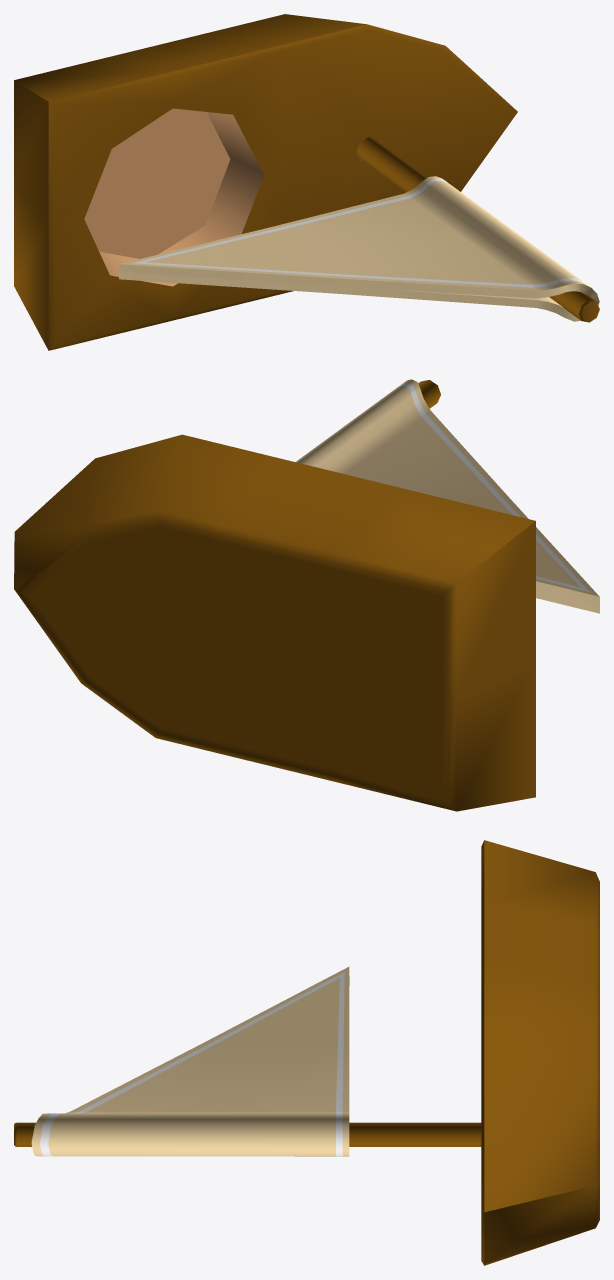
The model's file is boat.fbx.
The picture shows the model from 3 angles, top to bottom: view 1: azimuth 30°, elevation 25°; view 2: azimuth 150°, elevation 25°; view 3: azimuth 270°, elevation 25°; orthographic projection. The views are drawn at different scales.
Parts seen in each view (by area): view 1: body, sail, mast; view 2: body, sail; view 3: body, sail, mast.
Boxes of the visible parts, x1=… form: body: x1=14, y1=14, x2=517, y2=350; sail: x1=119, y1=176, x2=599, y2=321; mast: x1=356, y1=137, x2=599, y2=322; body: x1=14, y1=434, x2=535, y2=811; sail: x1=295, y1=379, x2=599, y2=613; body: x1=481, y1=840, x2=599, y2=1265; sail: x1=31, y1=967, x2=349, y2=1156; mast: x1=14, y1=1122, x2=481, y2=1146.
Bounding box in the file's own units: 249 × 126 × 256.
